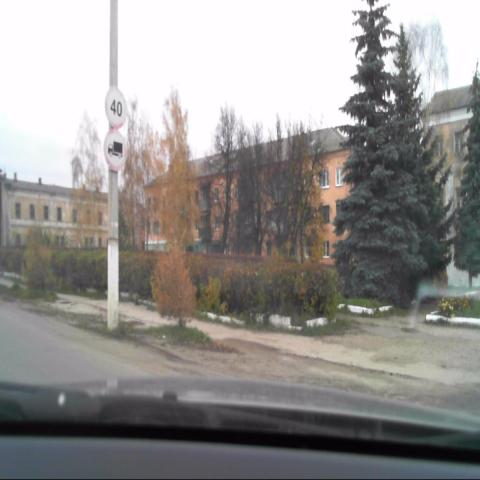3_4_1: (104, 131, 126, 172)
